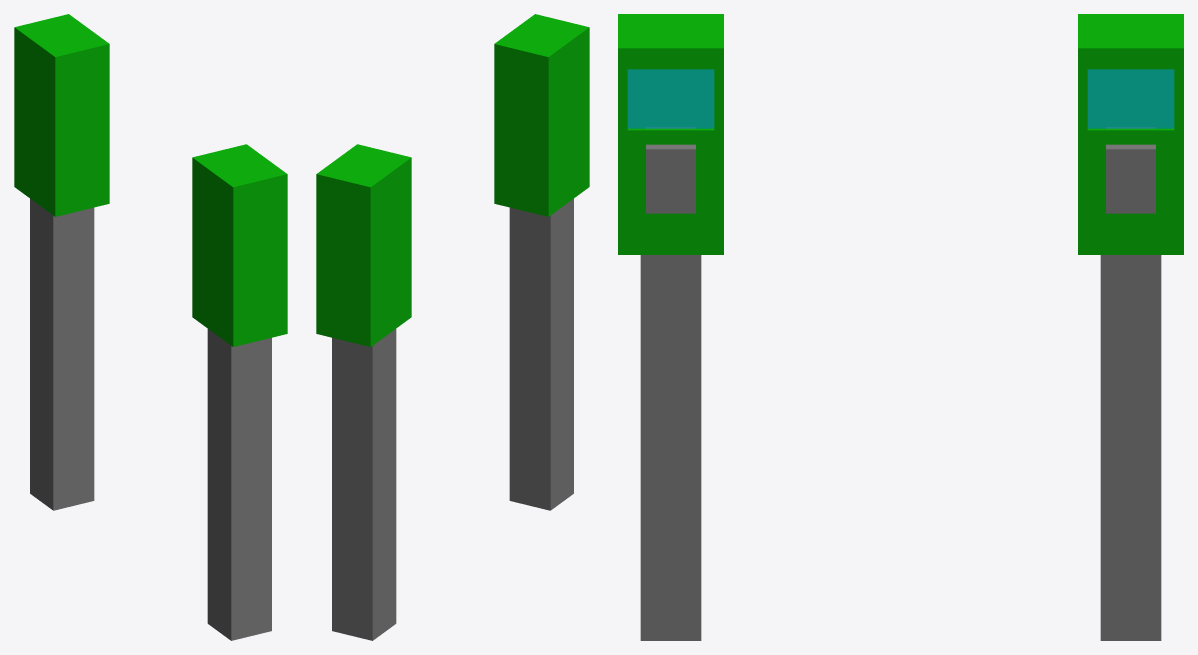
File: parkingMeter.fbx
3 views of the same model, side by side, from view 1: azimuth 30°, elevation 25°; view 2: azimuth 150°, elevation 25°; view 3: azimuth 270°, elevation 25° (orthographic). The views are drawn at different scales.
Visible parts, largest first — view 1: pCube1, pCube6, pCube5, pCube2; view 2: pCube6, pCube1, pCube2, pCube5; view 3: pCube1, pCube6, pCube2, pCube5, pCube3, pCube4.
Part boxes in pixels (box(x1,y1,x2,y2)): pCube1: box(207, 329, 271, 640); pCube6: box(30, 198, 94, 510); pCube5: box(14, 14, 109, 216); pCube2: box(192, 144, 287, 346); pCube6: box(332, 329, 396, 640); pCube1: box(509, 198, 573, 510); pCube2: box(494, 14, 589, 216); pCube5: box(316, 144, 411, 346); pCube1: box(640, 255, 701, 640); pCube6: box(1100, 255, 1161, 640); pCube2: box(618, 14, 723, 254); pCube5: box(1078, 14, 1183, 254); pCube3: box(646, 127, 695, 213); pCube4: box(1106, 127, 1155, 213).
Size of the model in its own units: 9.03 by 64.72 by 55.59.
